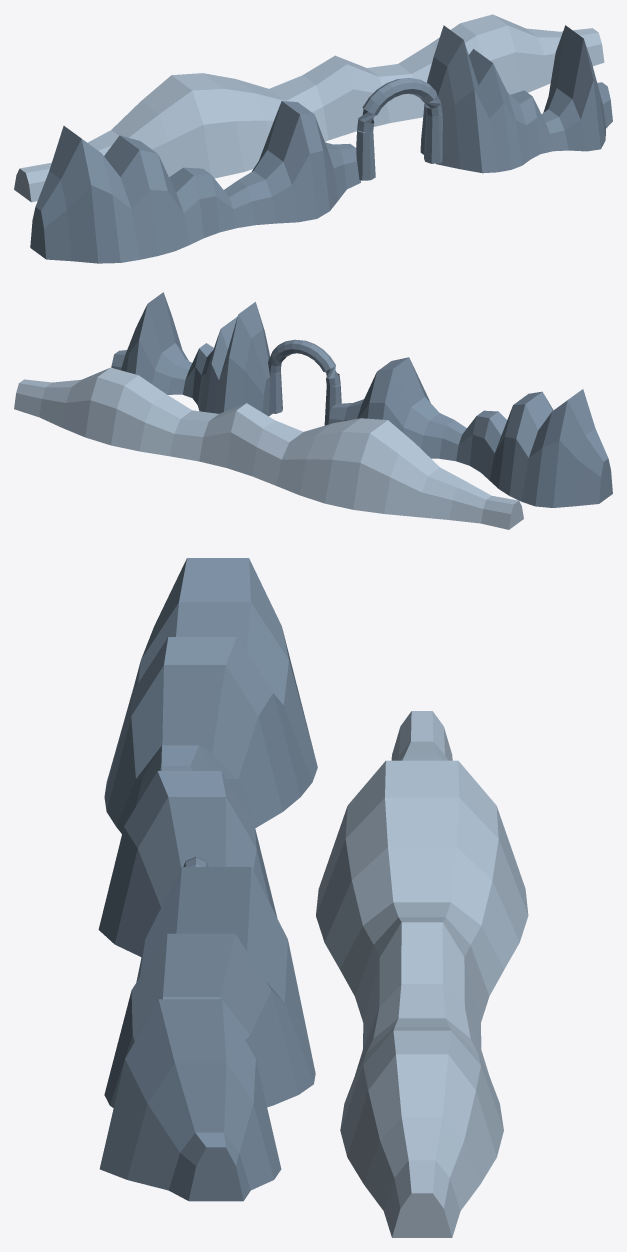
Rendered from DistantIsleM.fbx.
The picture shows the model from 3 angles, top to bottom: view 1: azimuth 30°, elevation 25°; view 2: azimuth 150°, elevation 25°; view 3: azimuth 270°, elevation 25°; orthographic projection. The views are drawn at different scales.
Parts seen in each view (by area): view 1: DistantIsleM; view 2: DistantIsleM; view 3: DistantIsleM.
Boxes of the visible parts, x1,y1,x2,y2 form: DistantIsleM: (14,14,612,263); DistantIsleM: (14,292,612,529); DistantIsleM: (98,558,528,1237).
Size of the model in its own units: 9800 by 1817 by 3422.
